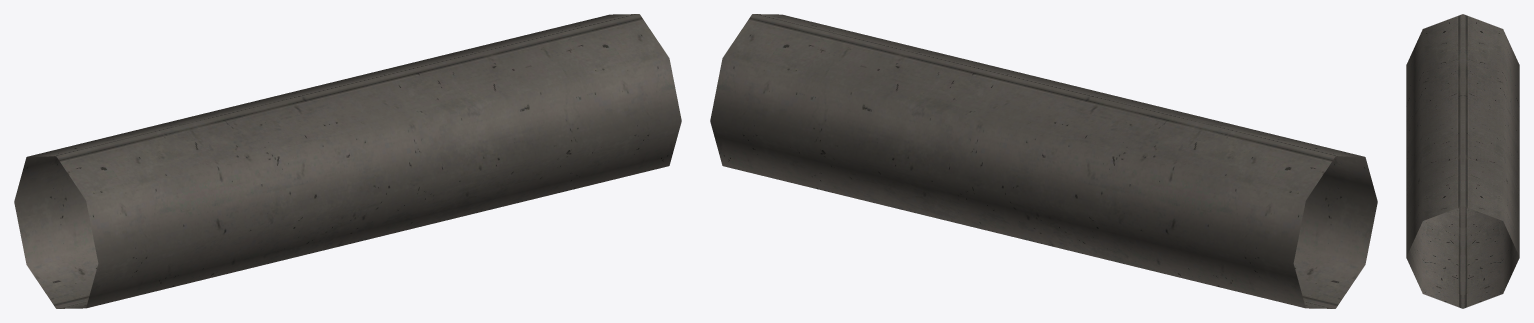
Rendered from com_pipe_4x32_white_clean_lod1.glb.
The picture shows the model from 3 angles, left to right: view 1: azimuth 30°, elevation 25°; view 2: azimuth 150°, elevation 25°; view 3: azimuth 270°, elevation 25°; orthographic projection. The views are drawn at different scales.
Visible parts, largest first — view 1: surf0; view 2: surf0; view 3: surf0.
Part boxes in pixels (bbox=[...]): surf0: bbox=[14, 14, 681, 308]; surf0: bbox=[710, 14, 1377, 308]; surf0: bbox=[1406, 14, 1519, 308].
Size of the model in its own units: 32 by 8 by 8.
